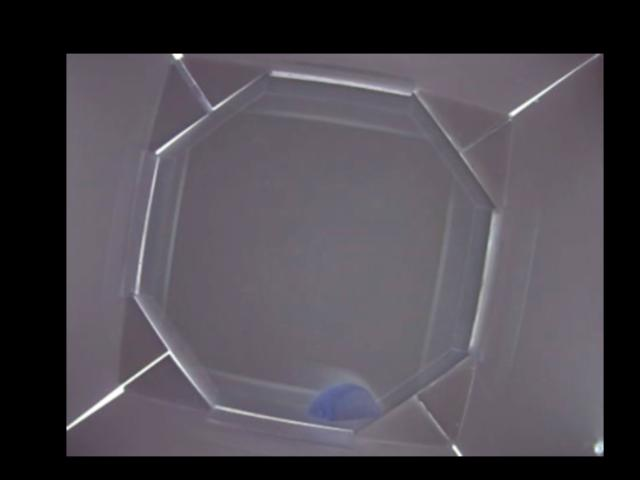Mooli: (304, 384, 380, 420)
